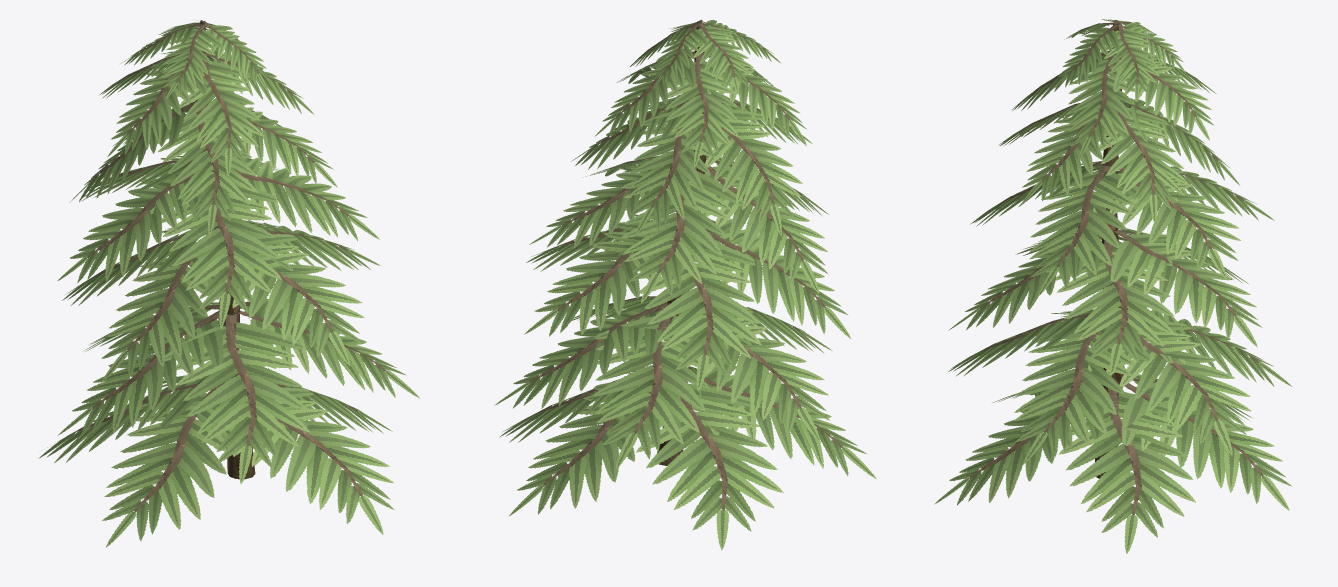
Rendered from tree_pine_2.glb.
3 renders of one model, left to right at view 1: azimuth 30°, elevation 25°; view 2: azimuth 150°, elevation 25°; view 3: azimuth 270°, elevation 25°, orthographic. The views are drawn at different scales.
Parts seen in each view (by area): view 1: Pine_2; view 2: Pine_2; view 3: Pine_2.
Boxes of the visible parts, box(x1,y1,x2,y2) form: Pine_2: box(38, 20, 419, 547); Pine_2: box(494, 20, 876, 550); Pine_2: box(934, 19, 1292, 553).
Size of the model in its own units: 6.34 by 8 by 6.51.
Materials: 2 (2 with a texture image).
